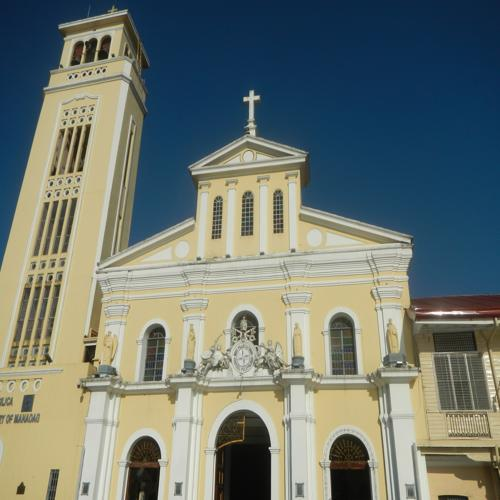Manaoag Church: (21, 15, 421, 500)
